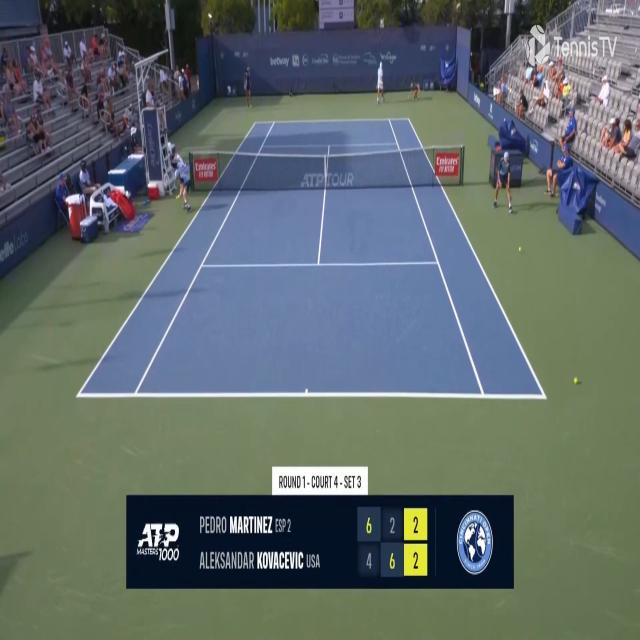tennis-player: (375, 58, 386, 106)
